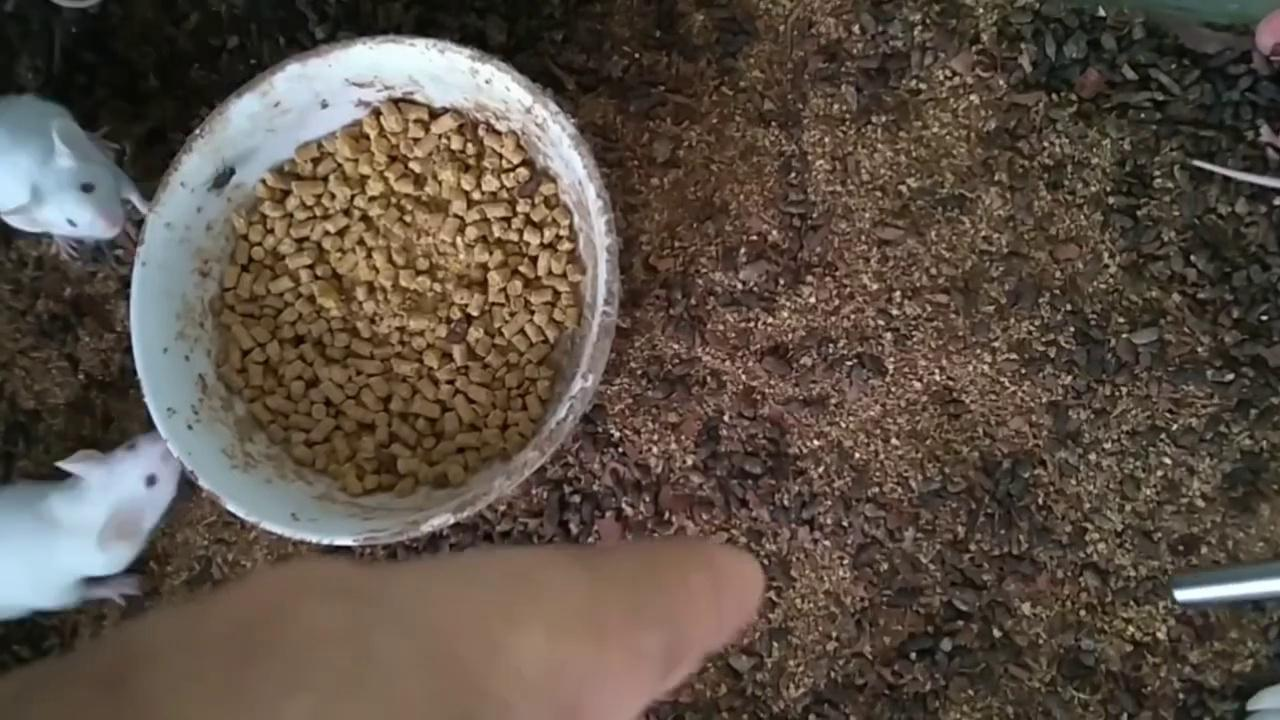rat: (0, 430, 185, 622), (0, 88, 152, 263)
